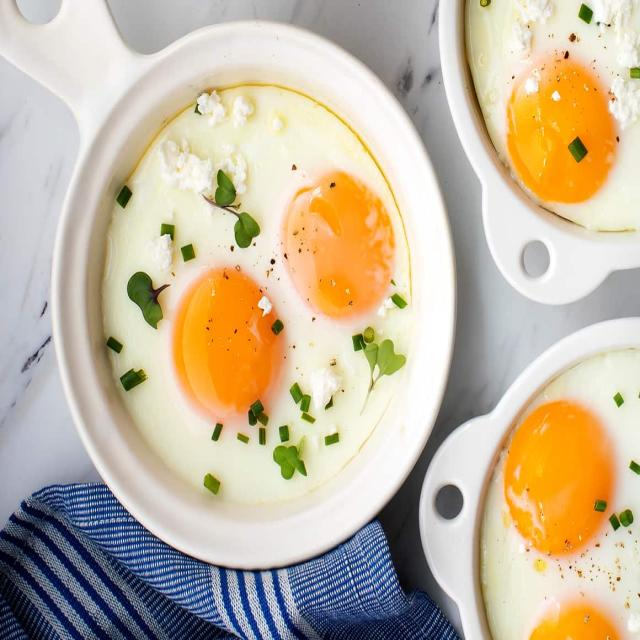eggs: (116, 81, 402, 508), (454, 0, 640, 250), (480, 354, 640, 640)
